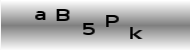5: (81, 21, 96, 36)
B: (55, 8, 71, 22)
P: (105, 14, 119, 27)
a: (34, 9, 46, 21)
k: (128, 26, 143, 40)
